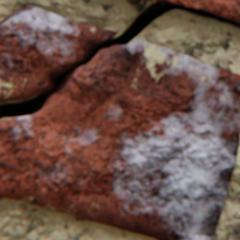brick: (167, 0, 239, 24)
broken_brick: (0, 39, 239, 239), (0, 5, 118, 101)
crack: (0, 0, 239, 118)
